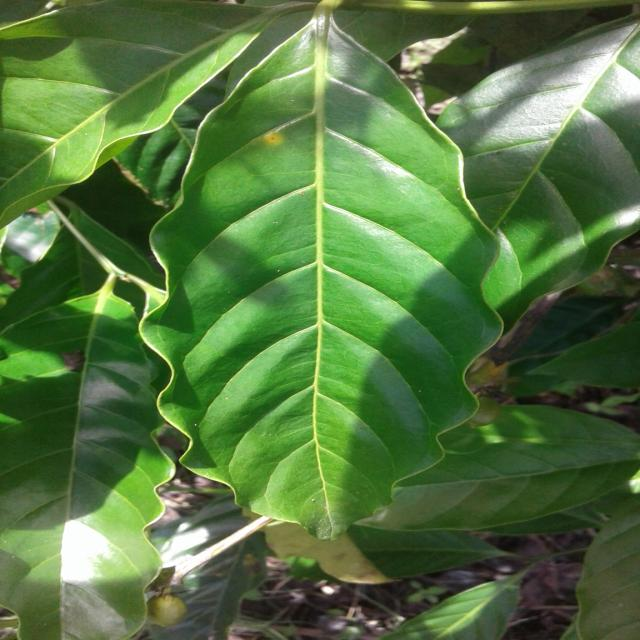Enfermedad-Roya: (139, 13, 520, 542)
